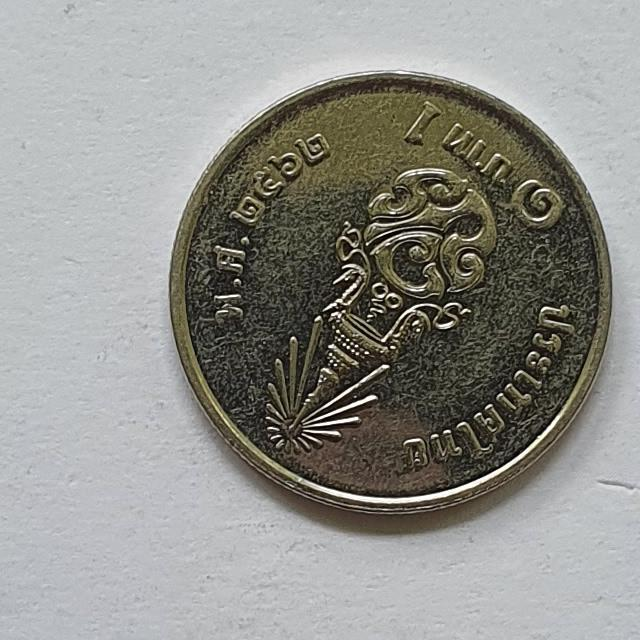1 Bath: (166, 67, 616, 523)
